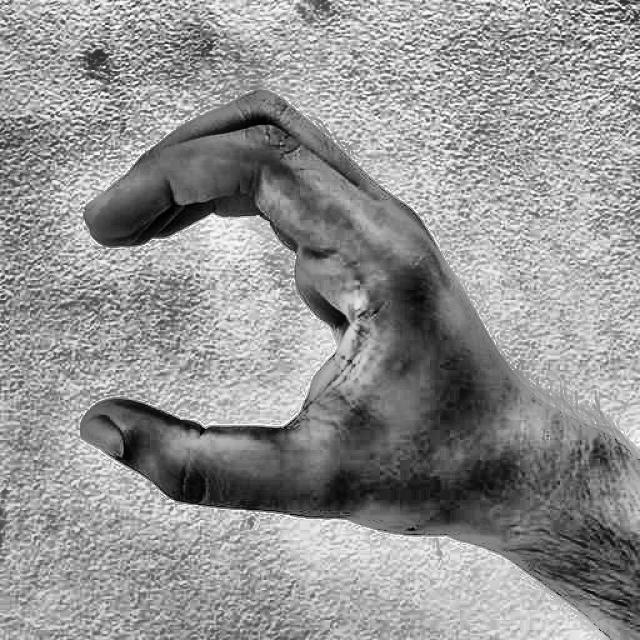Ka: (57, 55, 533, 572)
